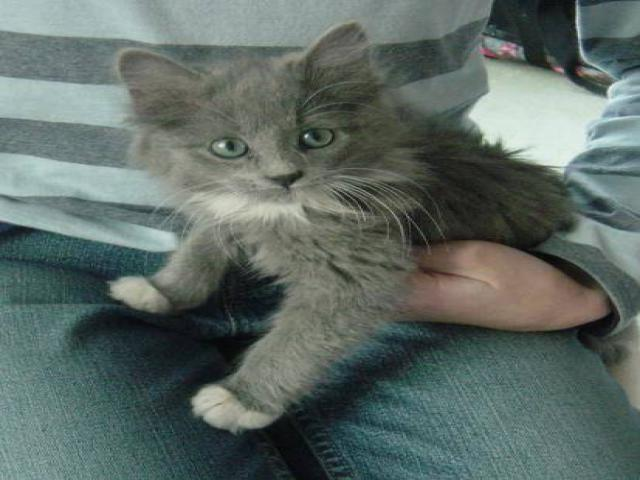cat: (107, 24, 586, 435)
